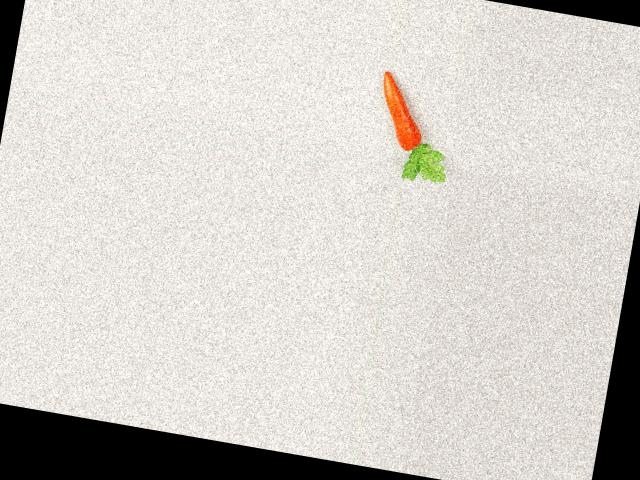carrot: (368, 66, 441, 163)
